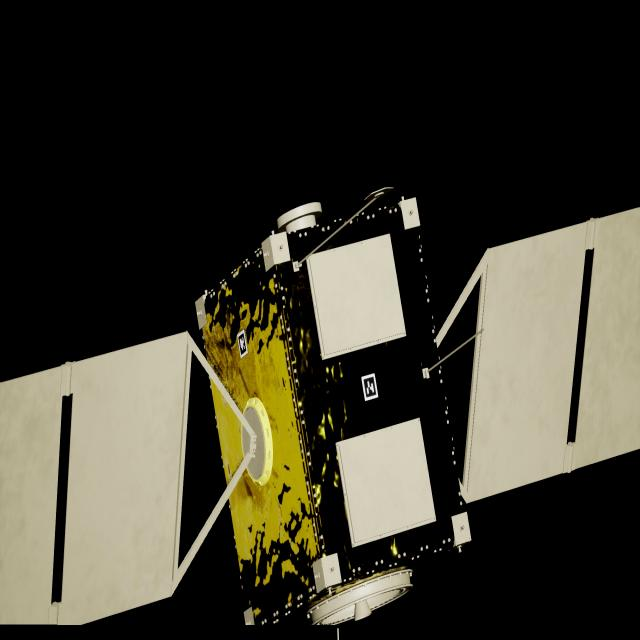medium_debris: (0, 187, 640, 631)
